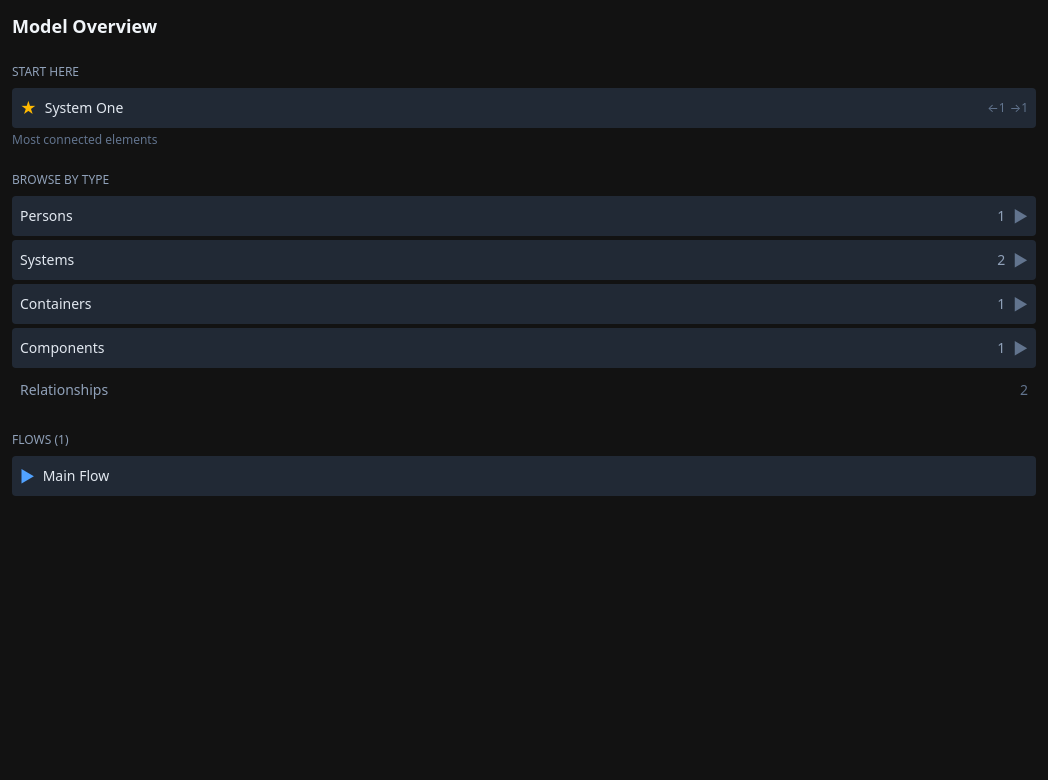
Test: StartHere › should toggle type expansion on click
Click the button "systems 2 ▶": (47, 260) [12,240,1036,280]
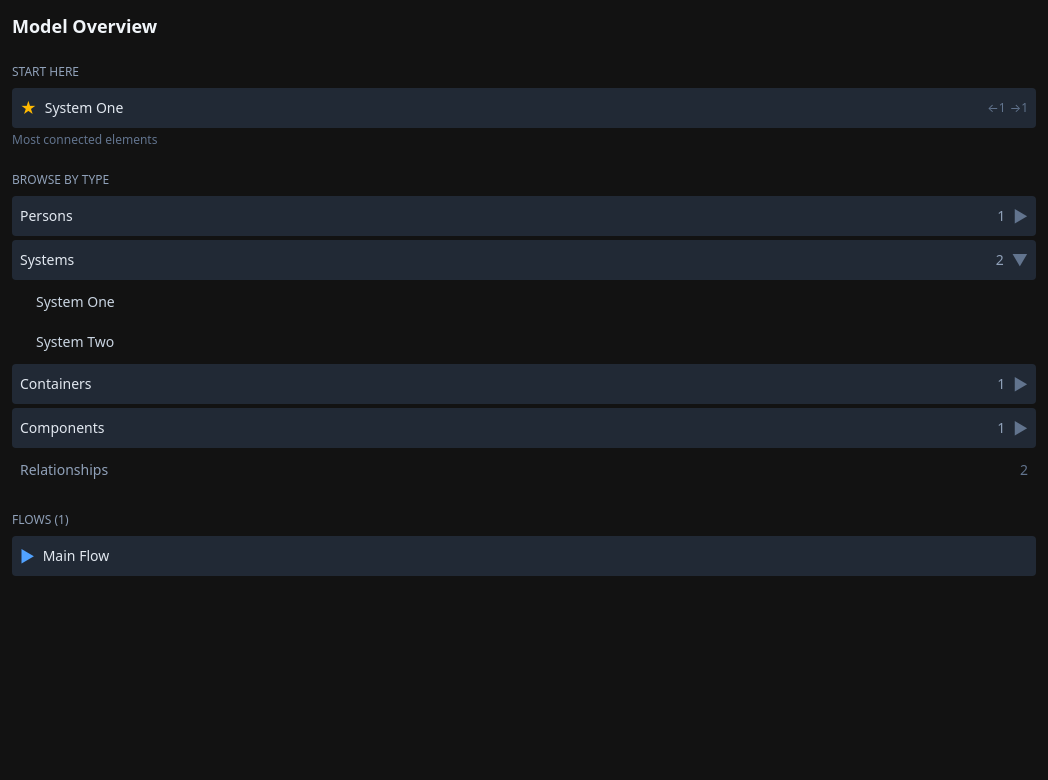
Now the button "systems 2 ▼" is expanded
Click the button "systems 2 ▼": (47, 260) [12,240,1036,280]
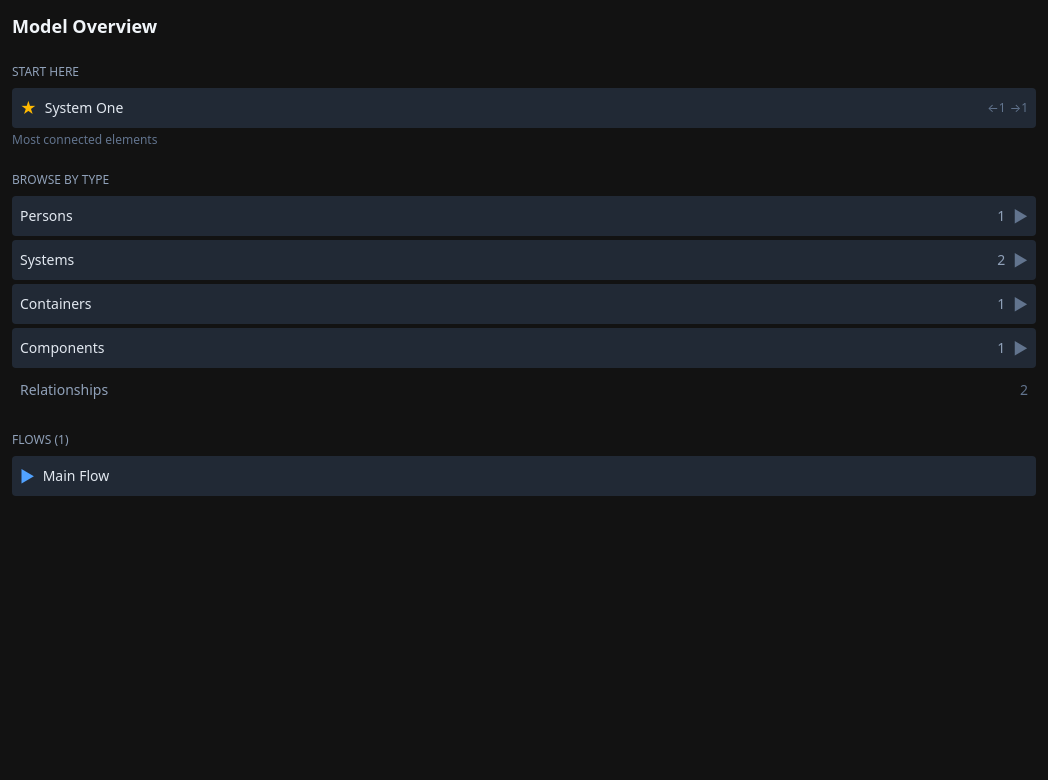
Now the button "systems 2 ▶" is collapsed, box [12,240,1036,280]
